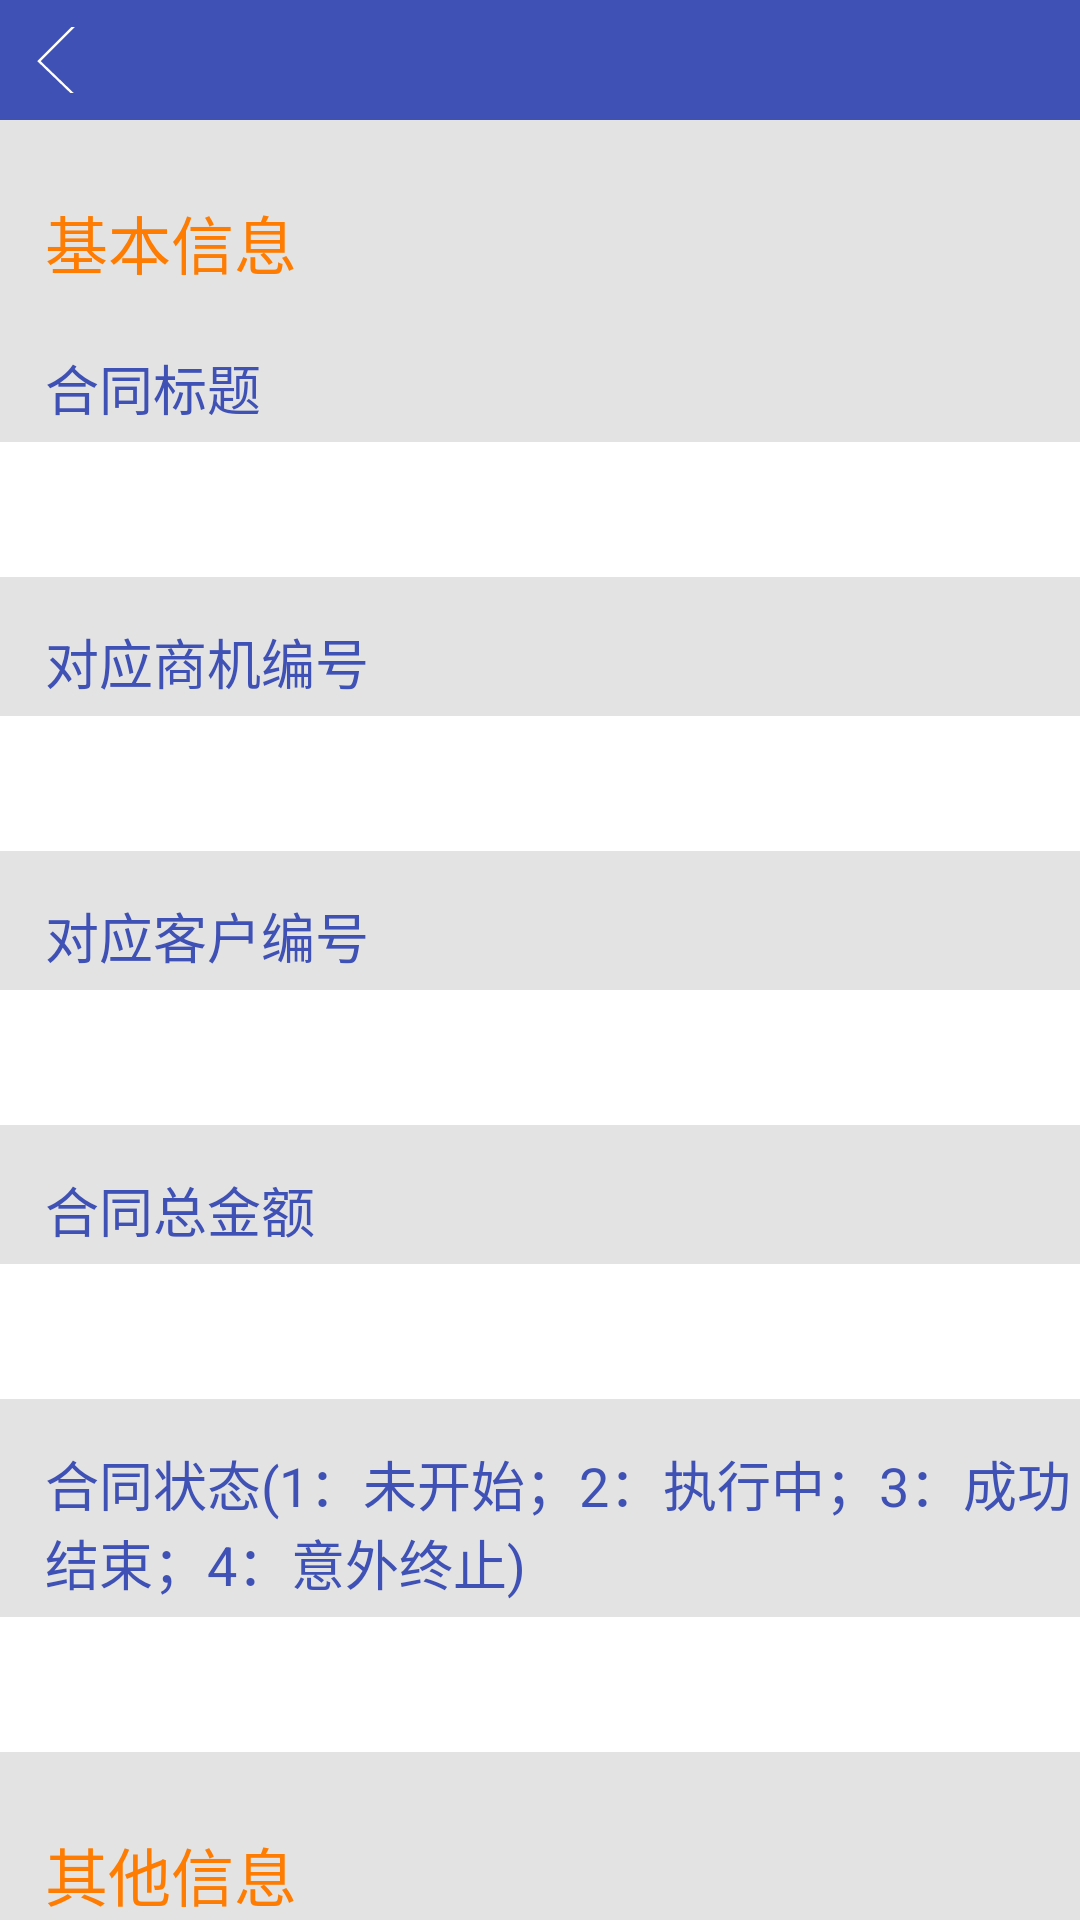

Point at icon controls on the screen. Image size 1080px×1920px, points as point (x, y).
back: point (56, 60)
